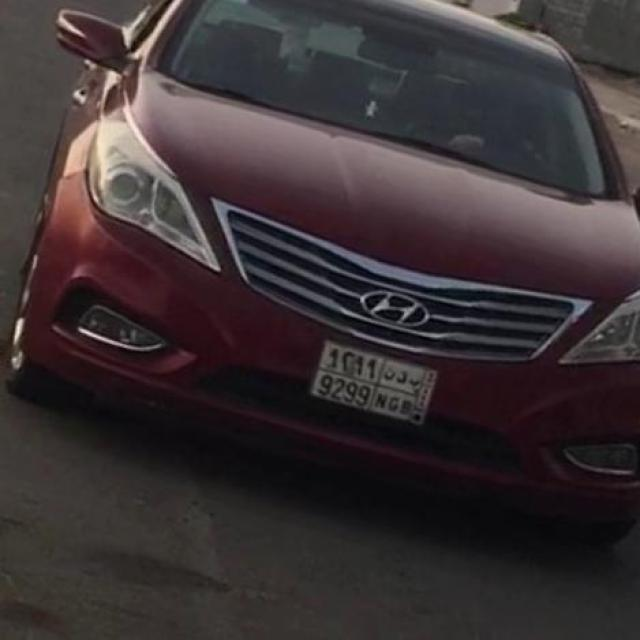Car-plate: (303, 326, 451, 442)
